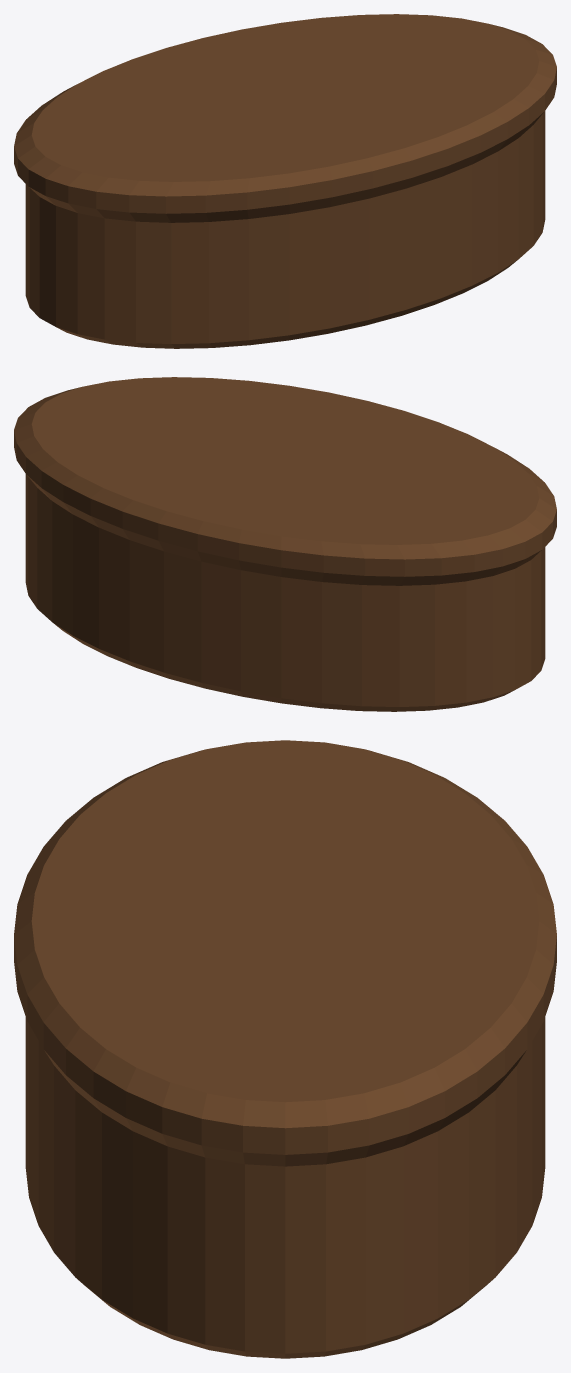
File: table_oval.fbx
3 renders of one model, top to bottom at view 1: azimuth 30°, elevation 25°; view 2: azimuth 150°, elevation 25°; view 3: azimuth 270°, elevation 25°, orthographic. The views are drawn at different scales.
Visible parts, largest first — view 1: table_oval_LOD0; view 2: table_oval_LOD0; view 3: table_oval_LOD0.
Part boxes in pixels (x1,y1,x2,y2): table_oval_LOD0: (14, 14, 556, 348); table_oval_LOD0: (14, 377, 556, 711); table_oval_LOD0: (14, 740, 556, 1358).
Size of what is drawn, in the model's own units: 1.24 by 0.39 by 0.736.
1 material, 1 textured.
